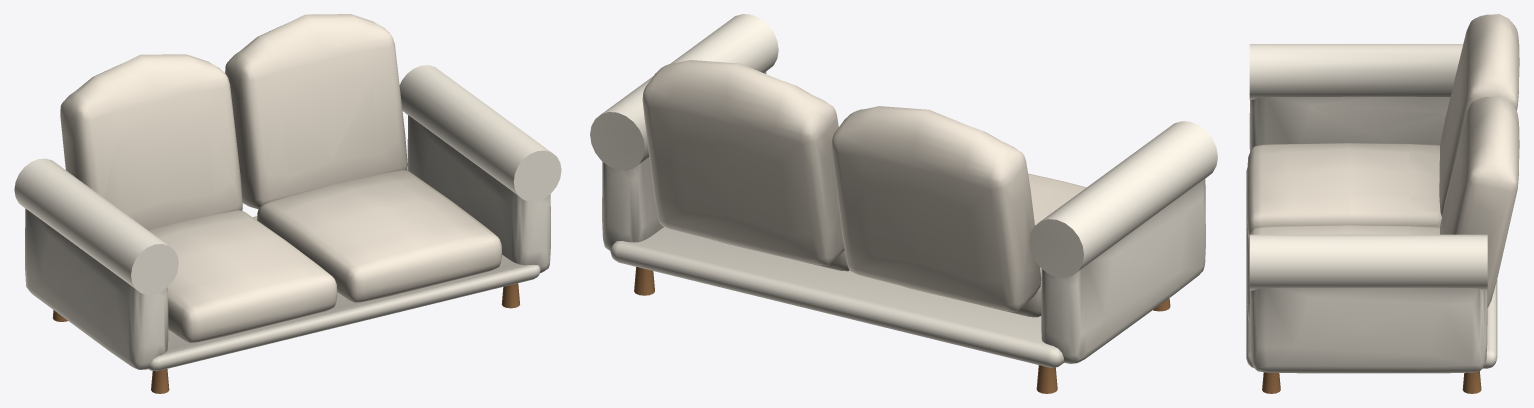
The model's file is sofa-cream.glb.
3 views of the same model, side by side, from view 1: azimuth 30°, elevation 25°; view 2: azimuth 150°, elevation 25°; view 3: azimuth 270°, elevation 25° (orthographic). The views are drawn at different scales.
Parts seen in each view (by area): view 1: sofa-cream; view 2: sofa-cream; view 3: sofa-cream.
Part boxes in pixels (<box>): sofa-cream: <box>14,14,561,393</box>; sofa-cream: <box>590,14,1217,393</box>; sofa-cream: <box>1246,14,1519,393</box>.
Size of the model in its own units: 1.62 by 0.827 by 0.8716.
